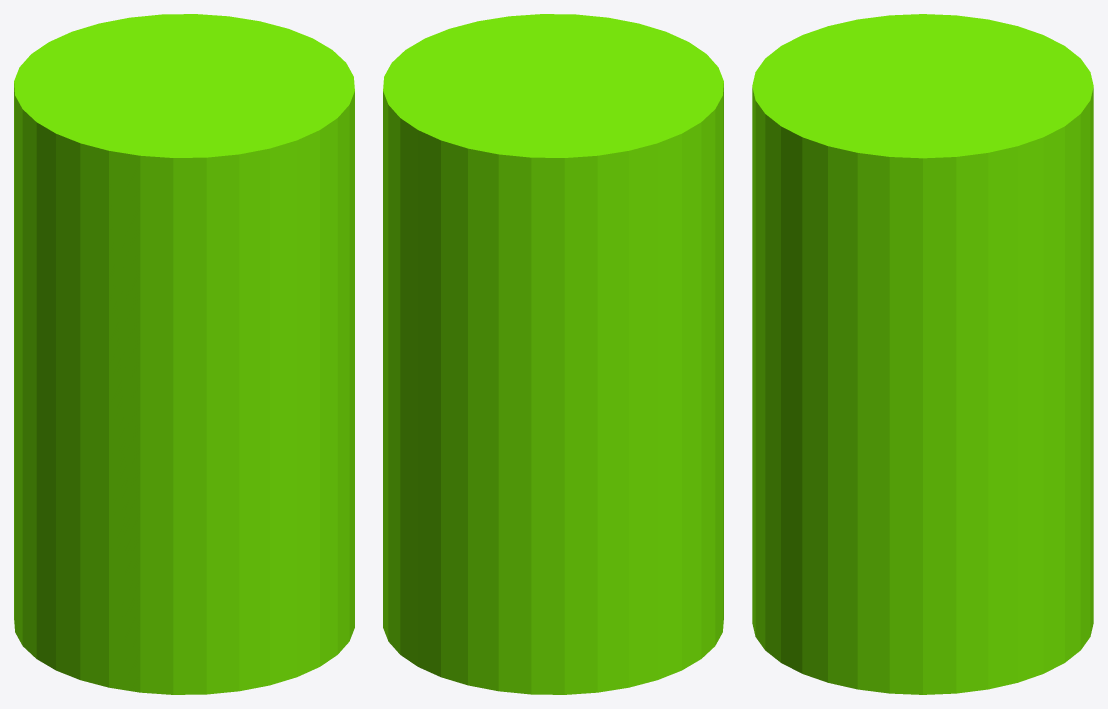
The model's file is Polys-Colliders.fbx.
3 views of the same model, side by side, from view 1: azimuth 30°, elevation 25°; view 2: azimuth 150°, elevation 25°; view 3: azimuth 270°, elevation 25° (orthographic).
Visible parts, largest first — view 1: ConjunctionShaders.001; view 2: ConjunctionShaders.001; view 3: ConjunctionShaders.001.
Part boxes in pixels (x1,y1,x2,y2): ConjunctionShaders.001: (14, 14, 354, 694); ConjunctionShaders.001: (383, 14, 723, 694); ConjunctionShaders.001: (752, 14, 1093, 694).
Size of what is drawn, in the model's own units: 771 by 1337 by 771.
